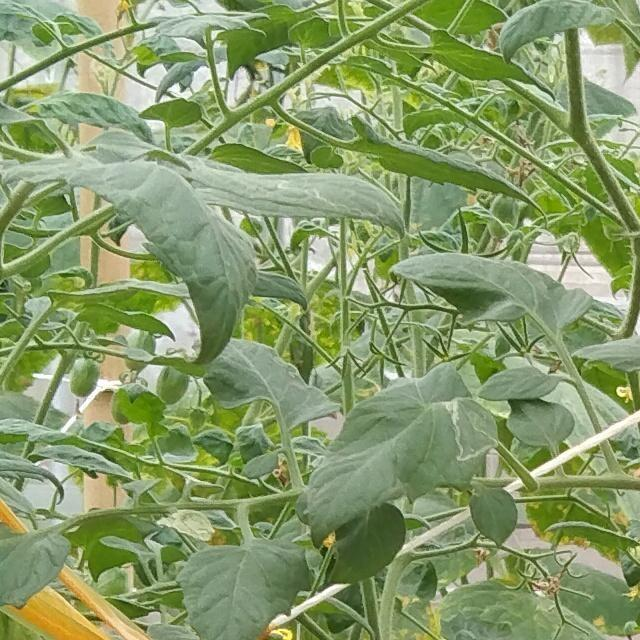Healthy: (0, 152, 257, 365), (385, 249, 592, 336), (177, 531, 308, 640)
Leaf_Miner: (304, 362, 498, 550), (181, 154, 407, 241)
